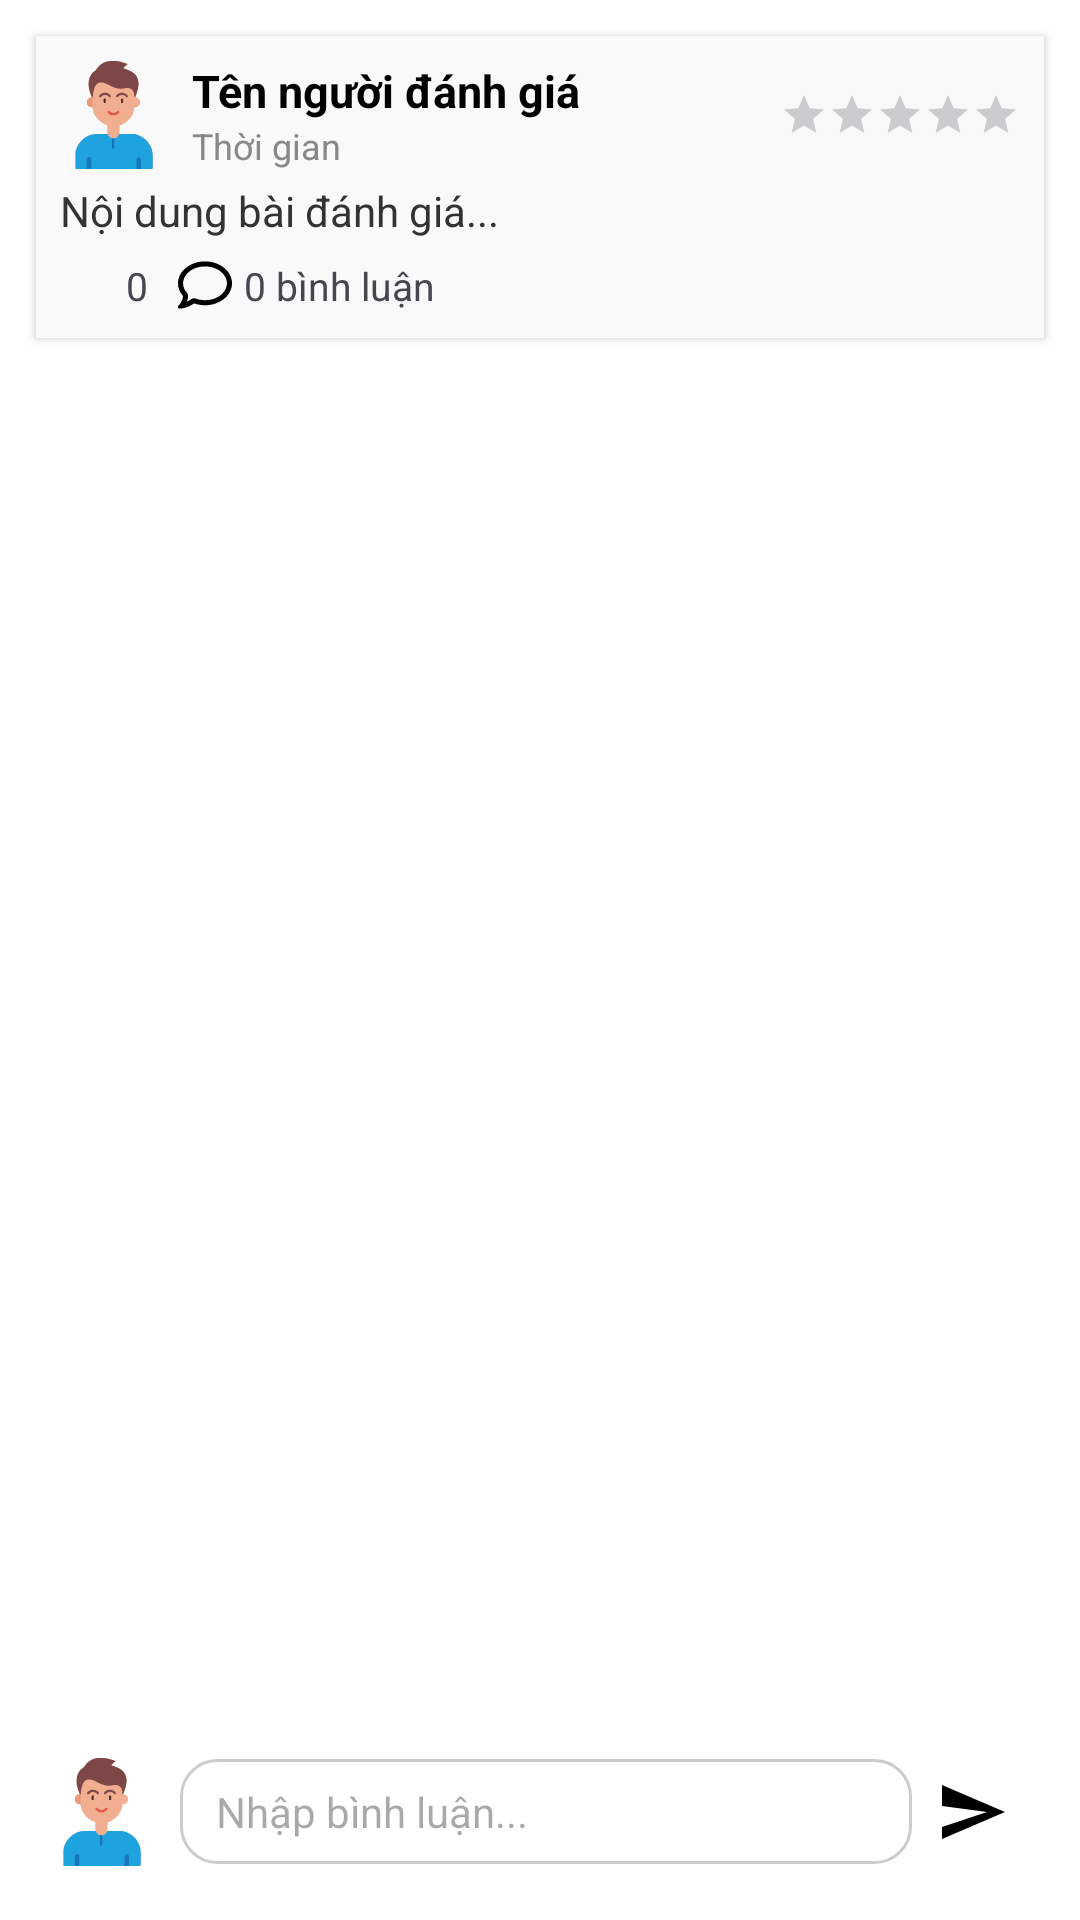

Where to tap for icons on this 1080*1920 app screen, as [x,y]:
comment: [205,285]
Gửi: [973,1812]
